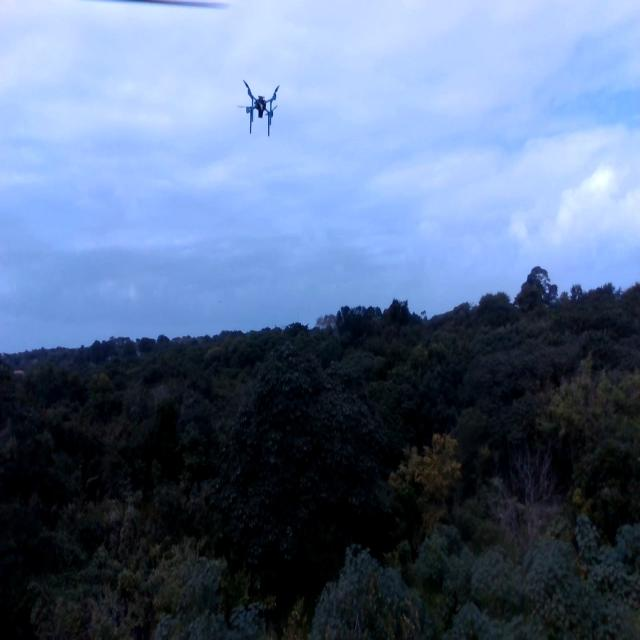-uav-: (236, 74, 293, 150)
